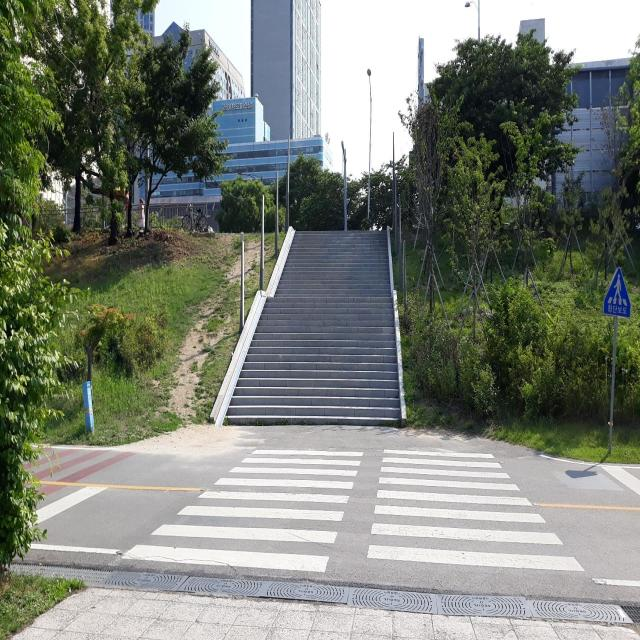횡단보도: (124, 437, 586, 578)
